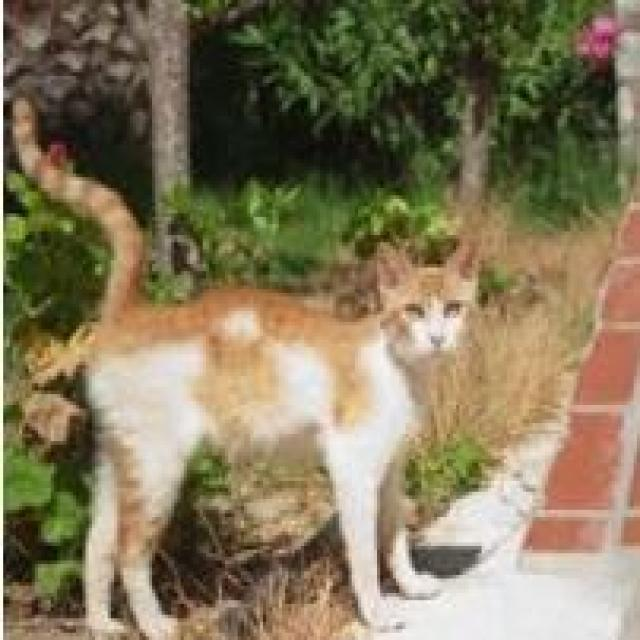Gato: (6, 98, 478, 636)
